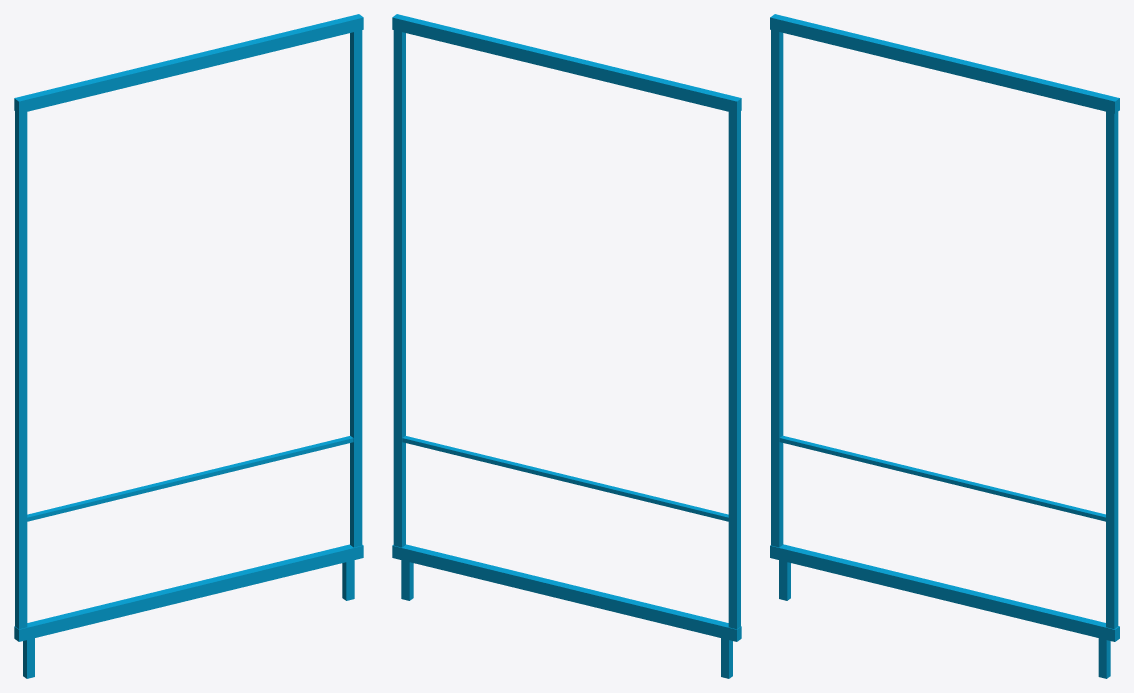
The model's file is Factory_Fence_01_Lod0.fbx.
3 views of the same model, side by side, from view 1: azimuth 30°, elevation 25°; view 2: azimuth 150°, elevation 25°; view 3: azimuth 330°, elevation 25° (orthographic).
Parts seen in each view (by area): view 1: Factory_Fence_01_Lod0; view 2: Factory_Fence_01_Lod0; view 3: Factory_Fence_01_Lod0.
Part boxes in pixels (x1,y1,x2,y2): Factory_Fence_01_Lod0: (14,14,363,678); Factory_Fence_01_Lod0: (392,14,741,678); Factory_Fence_01_Lod0: (770,14,1119,678).
Size of the model in its own units: 263 by 423 by 6.3.
